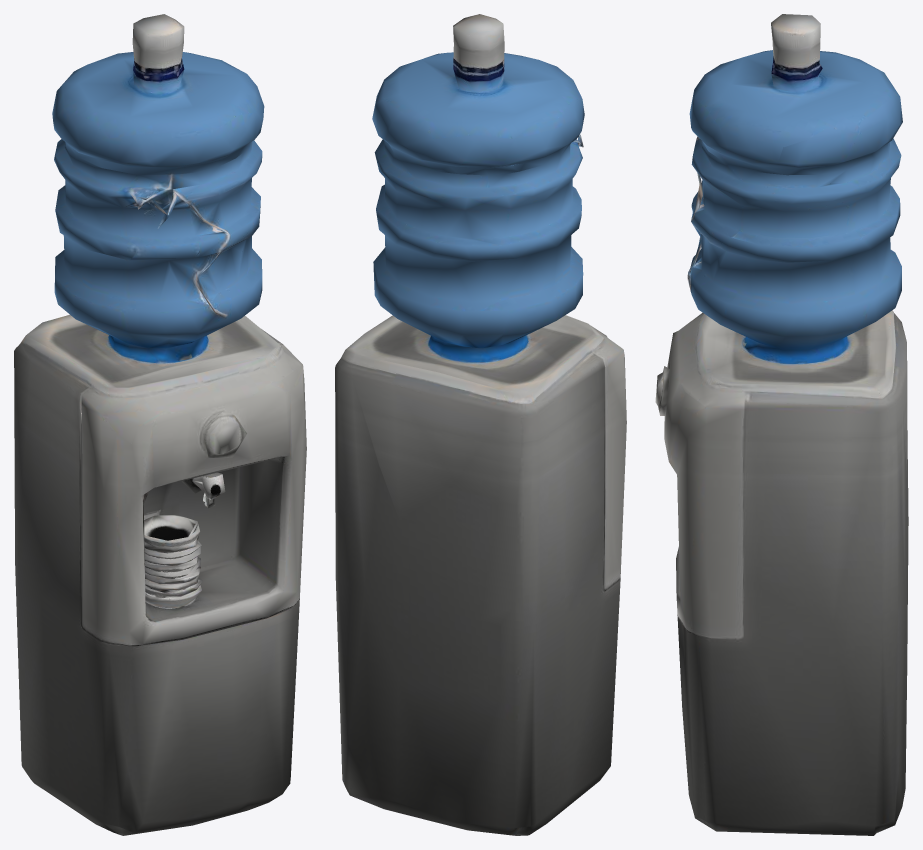
The model's file is water_cooler.glb.
3 views of the same model, side by side, from view 1: azimuth 30°, elevation 25°; view 2: azimuth 150°, elevation 25°; view 3: azimuth 270°, elevation 25° (orthographic).
Visible parts, largest first — view 1: Model; view 2: Model; view 3: Model.
Part boxes in pixels (box(x1,y1,x2,y2)): Model: box(14, 14, 306, 835); Model: box(335, 14, 626, 835); Model: box(655, 14, 908, 835).
Size of the model in its own units: 0.3662 by 1.3 by 0.3856.
1 material, 1 textured.
